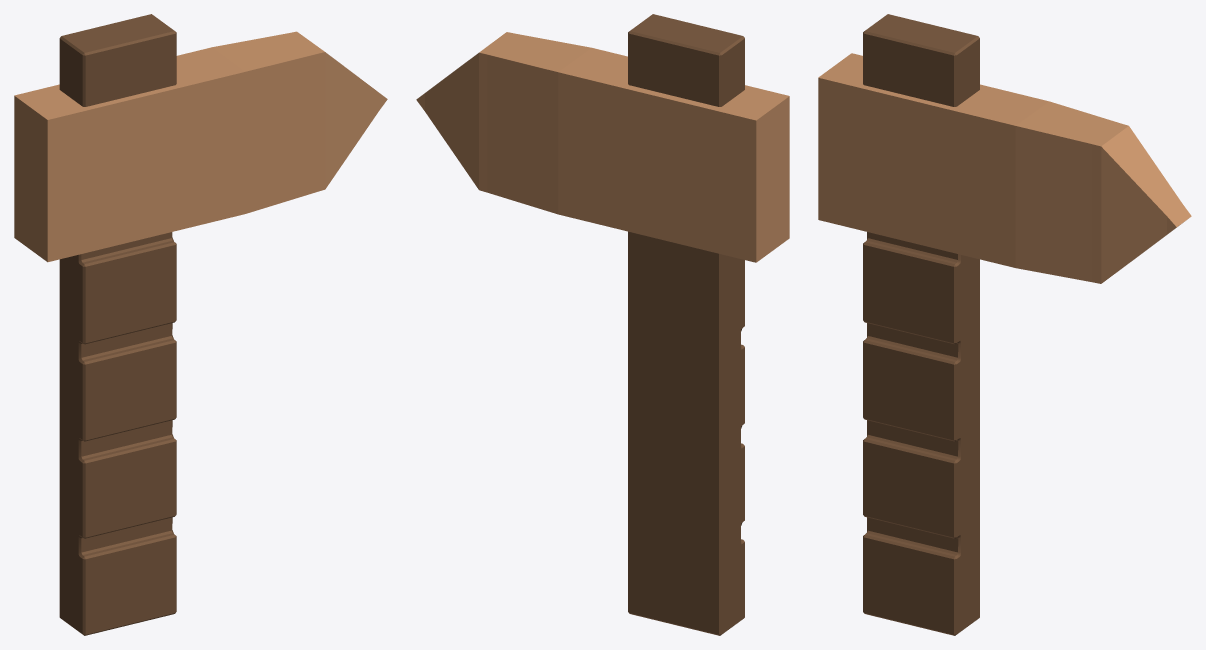
Rendered from arrowsign.fbx.
3 renders of one model, left to right at view 1: azimuth 30°, elevation 25°; view 2: azimuth 150°, elevation 25°; view 3: azimuth 330°, elevation 25°, orthographic.
Parts seen in each view (by area): view 1: Sign; view 2: Sign; view 3: Sign.
Part boxes in pixels (box(x1,y1,x2,y2)): Sign: box(14, 14, 387, 635); Sign: box(416, 14, 789, 635); Sign: box(818, 14, 1191, 635).
Bounding box in the file's own units: 3.81 × 6.07 × 0.6332.
